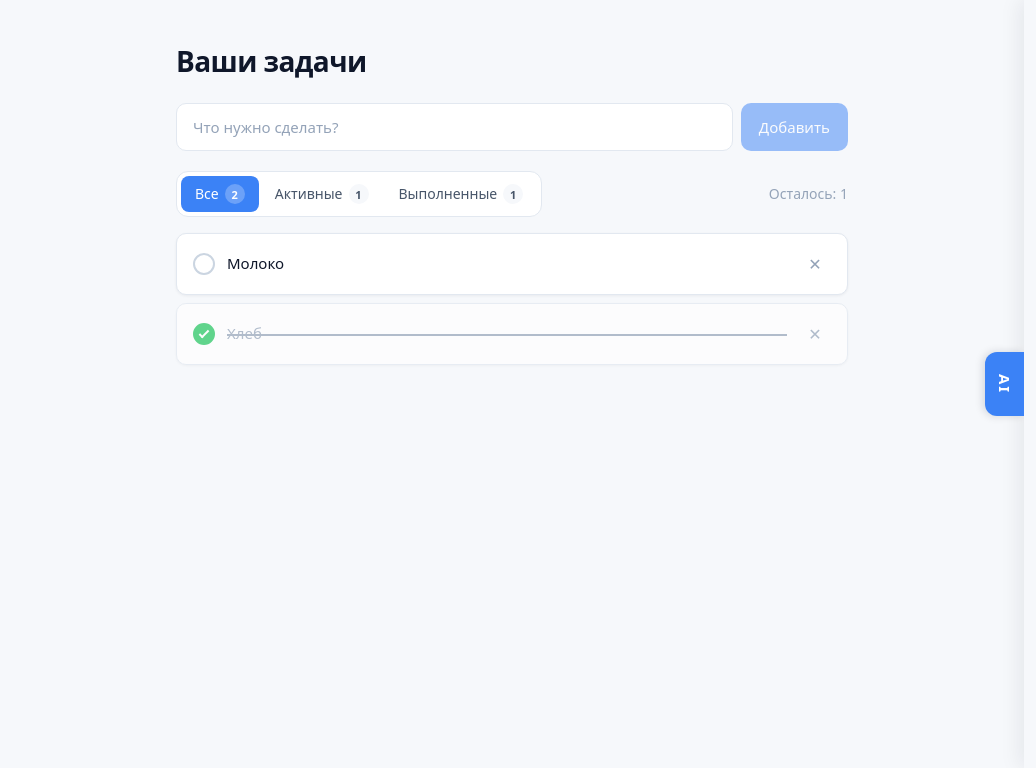
Home › фильтр Активные скрывает выполненные
The width and height of the screenshot is (1036, 768).
Expected: the text "Молоко" is shown, [227,254,284,274]
Click the button "Активные 1": (322, 194) [261,176,382,212]
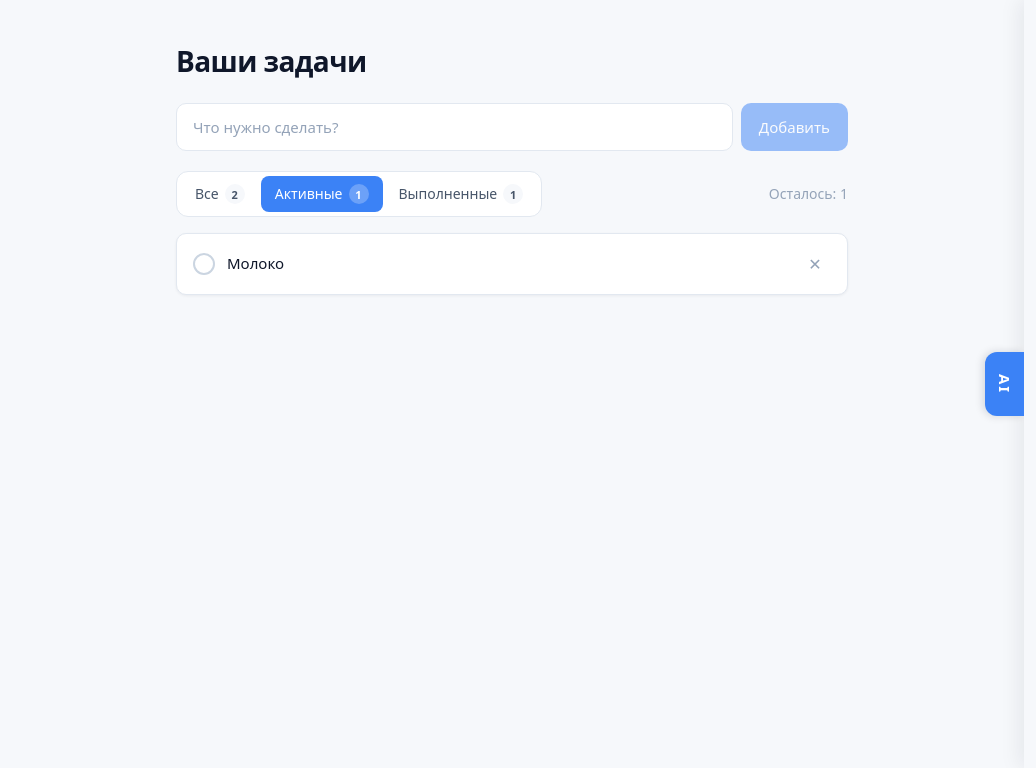
Expected: the text "Молоко" is shown, [227,254,284,274]
Expected: the text "Хлеб" is gone
